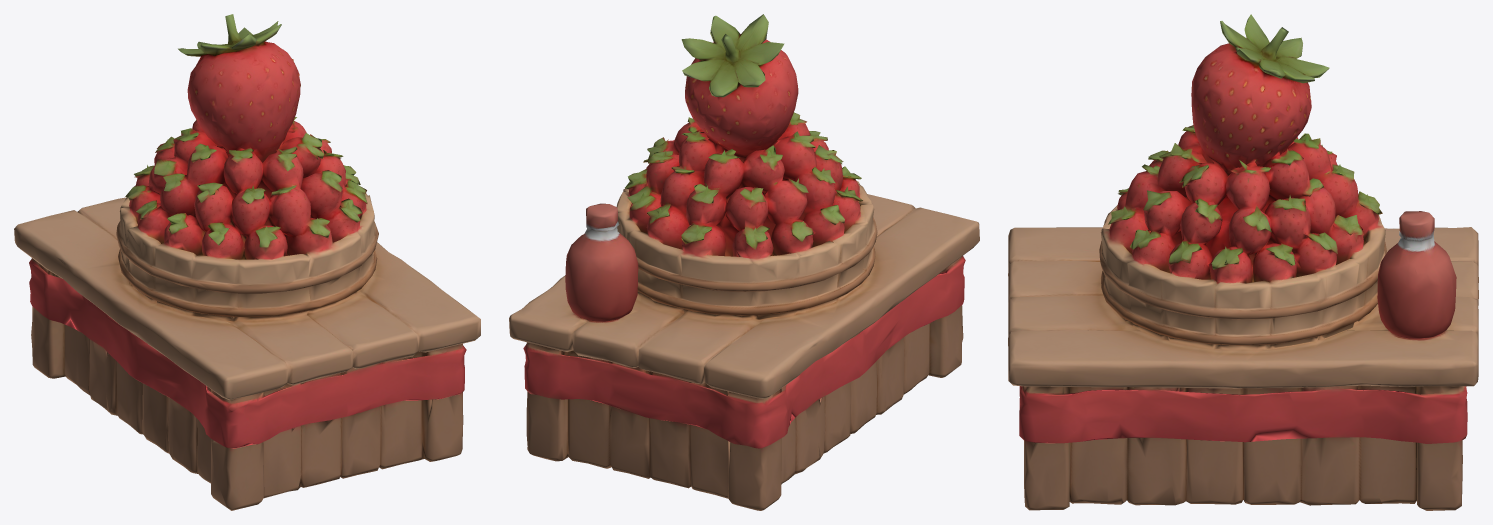
Rendered from JP_사물_s2_station_topping_t2_v2.glb.
3 renders of one model, left to right at view 1: azimuth 30°, elevation 25°; view 2: azimuth 150°, elevation 25°; view 3: azimuth 270°, elevation 25°, orthographic. The views are drawn at different scales.
Parts seen in each view (by area): view 1: tripo_node_65492b08-a9e4-42a5-95be-c380c697144c; view 2: tripo_node_65492b08-a9e4-42a5-95be-c380c697144c; view 3: tripo_node_65492b08-a9e4-42a5-95be-c380c697144c.
Boxes of the visible parts, bbox=[...] form: tripo_node_65492b08-a9e4-42a5-95be-c380c697144c: bbox=[14, 14, 480, 510]; tripo_node_65492b08-a9e4-42a5-95be-c380c697144c: bbox=[509, 14, 979, 510]; tripo_node_65492b08-a9e4-42a5-95be-c380c697144c: bbox=[1008, 14, 1478, 510].
Bounding box in the file's own units: 0.6986 × 0.9952 × 1.
Materials: 1 (1 with a texture image).
